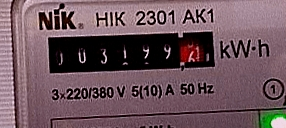0: (50, 46, 64, 68), (73, 44, 87, 65)
1: (117, 41, 129, 60)
3: (96, 45, 108, 65)
6: (185, 47, 196, 64)
9: (138, 40, 151, 61), (159, 40, 172, 60)
screen: (38, 19, 224, 87)
